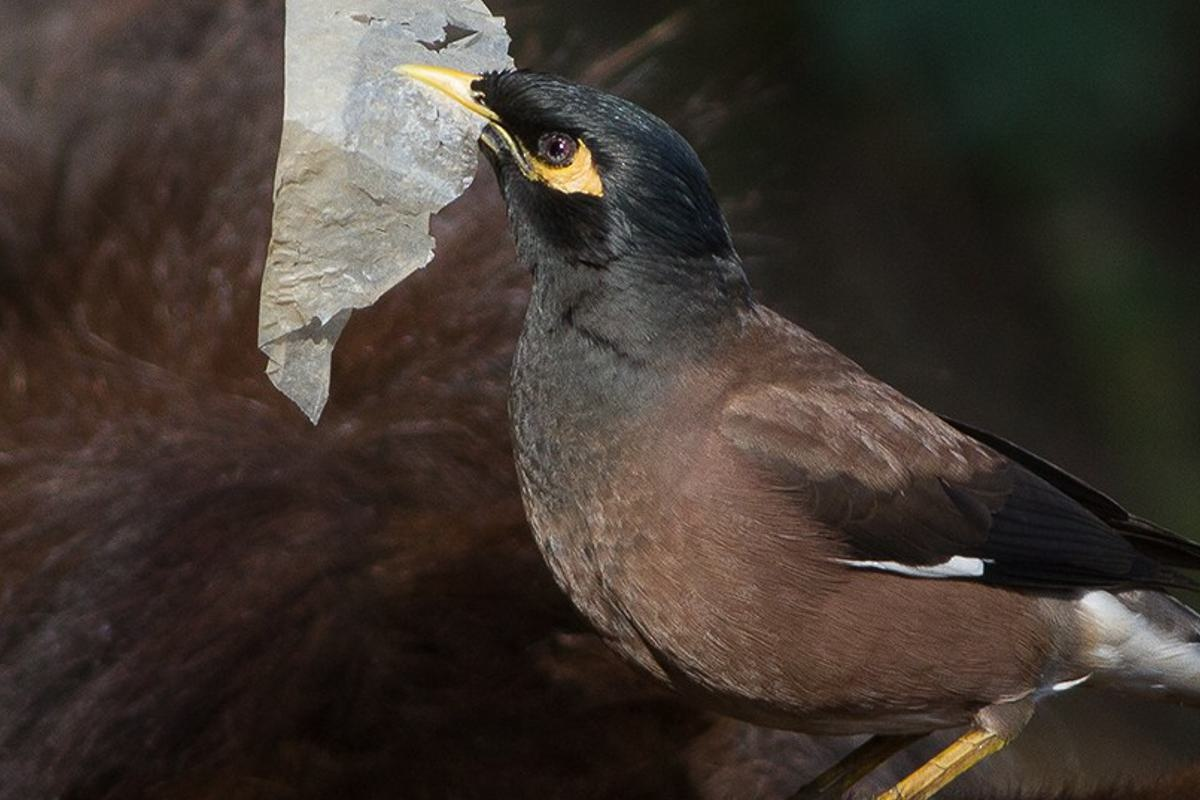myna: (379, 31, 1154, 766)
